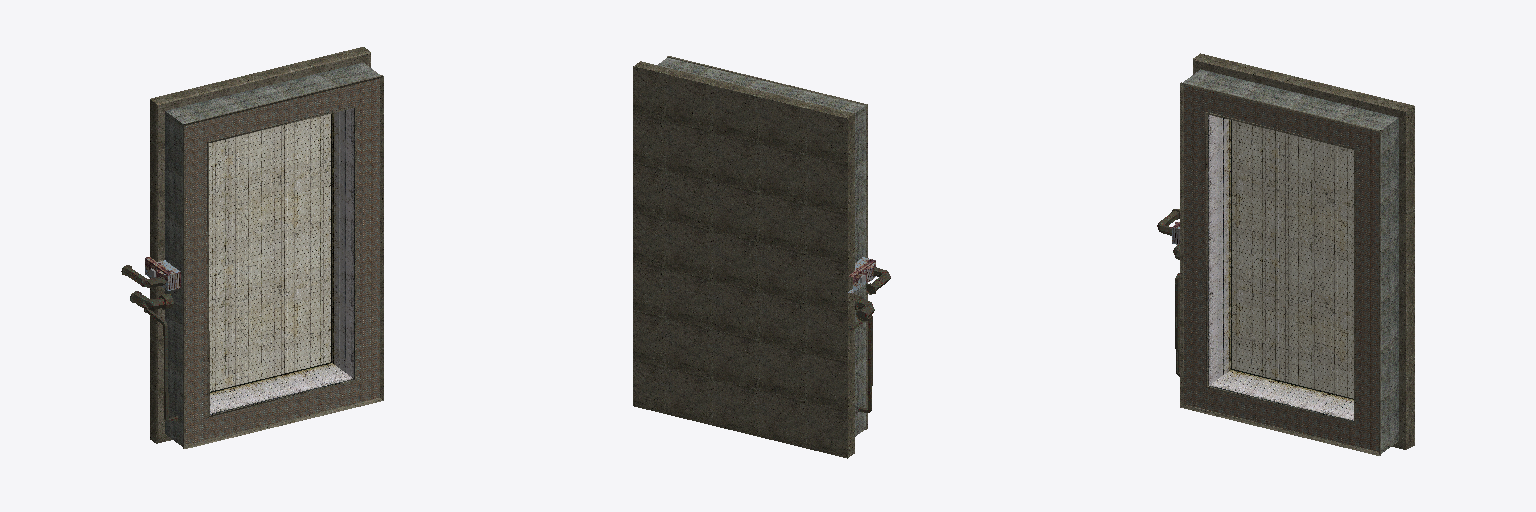
The picture shows the model from 3 angles: view 1: azimuth 30°, elevation 25°; view 2: azimuth 150°, elevation 25°; view 3: azimuth 330°, elevation 25°; orthographic projection.
Visible parts, largest first — view 1: MDL_Box011; view 2: MDL_Box011; view 3: MDL_Box011.
Boxes of the visible parts, box(x1,y1,x2,y2) form: MDL_Box011: box(121, 47, 383, 448); MDL_Box011: box(633, 56, 890, 458); MDL_Box011: box(1157, 53, 1414, 455).
Bounding box in the file's own units: 23.11 × 31.01 × 4.57.
9 materials, 7 textured.